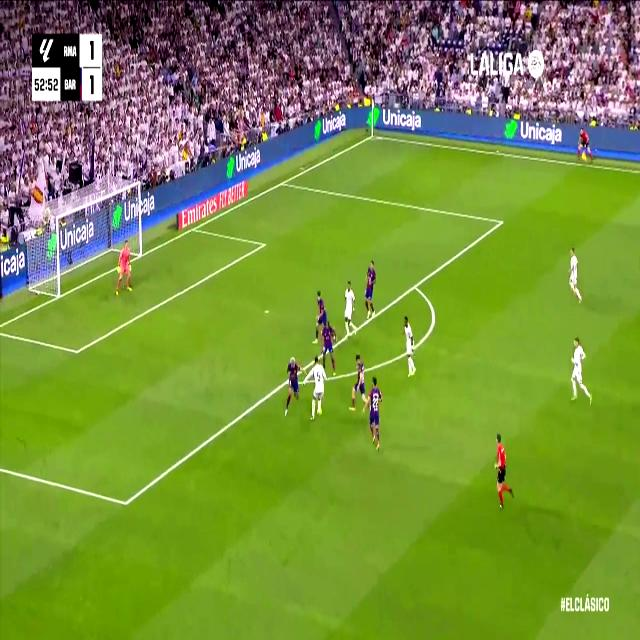bigarea_bottom_inner: (120, 487, 132, 518)
bigarea_top_inner: (496, 211, 506, 232)
bigarea_top_outter: (280, 176, 286, 188)
corner: (368, 130, 376, 140)
smallarea_bottom_inner: (72, 339, 82, 363)
smallarea_top_inner: (260, 236, 266, 252)
top_arc_area_intersection: (412, 277, 418, 293)
